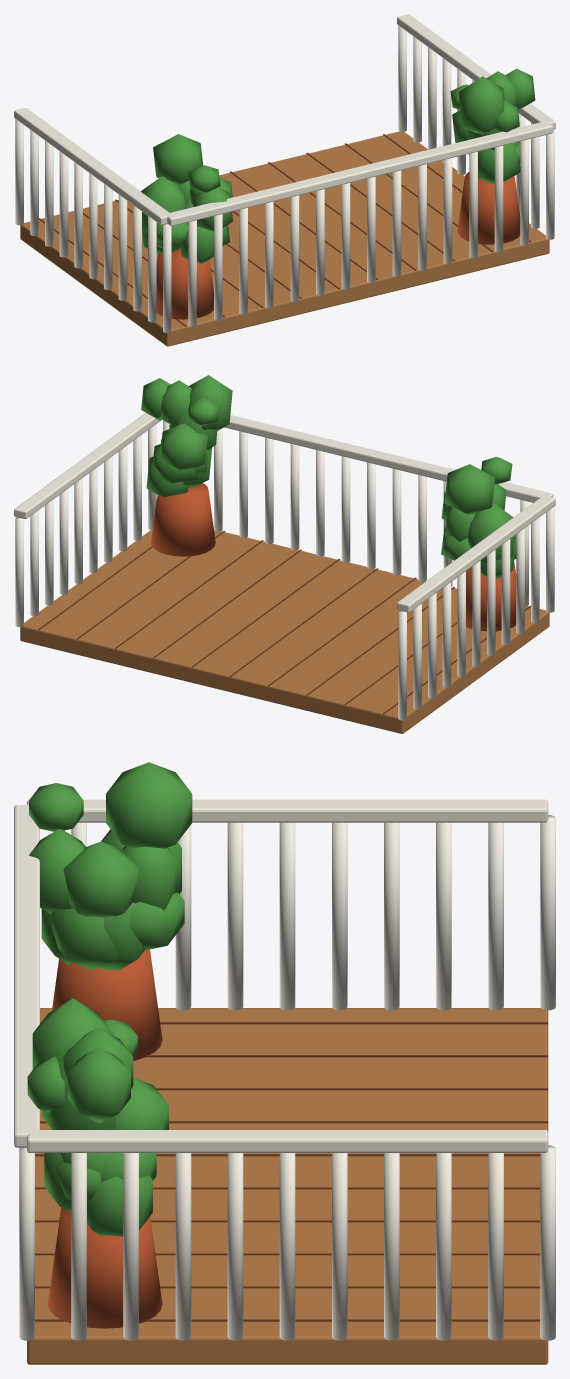
File: terrazza.glb
The picture shows the model from 3 angles, top to bottom: view 1: azimuth 30°, elevation 25°; view 2: azimuth 150°, elevation 25°; view 3: azimuth 270°, elevation 25°; orthographic projection. The views are drawn at different scales.
Parts seen in each view (by area): view 1: Cube, Cube.011, Cube.012, Cone, Cone.001, Cube.013, Icosphere, Icosphere.014, Icosphere.017, Cylinder.007, Cylinder.009, Cylinder.005 (+35 smaller); view 2: Cube, Cube.011, Cone, Cube.012, Cube.013, Icosphere.014, Icosphere.010, Cone.001, Icosphere, Icosphere.017, Cylinder.006, Cylinder.008 (+37 smaller); view 3: Cube, Cube.013, Cube.012, Cube.011, Cone, Icosphere.014, Cone.001, Icosphere.027, Icosphere.006, Cylinder.020, Cylinder.021, Cylinder.030 (+41 smaller).
Part boxes in pixels (bbox=[...]): Cube: bbox=[20, 131, 549, 346]; Cube.011: bbox=[166, 121, 553, 226]; Cube.012: bbox=[14, 108, 170, 225]; Cone: bbox=[457, 172, 520, 244]; Cone.001: bbox=[156, 247, 213, 319]; Cube.013: bbox=[397, 14, 555, 129]; Icosphere: bbox=[458, 76, 504, 134]; Icosphere.014: bbox=[153, 134, 202, 184]; Icosphere.017: bbox=[141, 176, 185, 232]; Cylinder.007: bbox=[341, 183, 350, 289]; Cylinder.009: bbox=[392, 170, 401, 276]; Cylinder.005: bbox=[290, 195, 299, 301]; Cube: bbox=[20, 530, 549, 733]; Cube.011: bbox=[224, 415, 553, 502]; Cone: bbox=[151, 483, 215, 556]; Cube.012: bbox=[397, 495, 555, 612]; Cube.013: bbox=[14, 413, 160, 519]; Icosphere.014: bbox=[444, 464, 495, 514]; Icosphere.010: bbox=[160, 423, 207, 470]; Cone.001: bbox=[466, 562, 516, 631]; Icosphere: bbox=[189, 375, 232, 430]; Icosphere.017: bbox=[468, 502, 514, 563]; Cylinder.006: bbox=[392, 468, 401, 575]; Cylinder.008: bbox=[341, 456, 350, 562]; Cube: bbox=[27, 1008, 548, 1364]; Cube.013: bbox=[27, 1130, 548, 1152]; Cube.012: bbox=[27, 799, 548, 822]; Cube.011: bbox=[14, 805, 39, 1147]; Cone: bbox=[48, 1208, 162, 1328]; Icosphere.014: bbox=[106, 762, 192, 848]; Cone.001: bbox=[52, 949, 162, 1060]; Icosphere.027: bbox=[63, 841, 138, 917]; Icosphere.006: bbox=[67, 1047, 130, 1123]; Cylinder.020: bbox=[227, 822, 243, 1010]; Cylinder.021: bbox=[279, 822, 295, 1010]; Cylinder.030: bbox=[175, 1153, 191, 1340].
Bounding box in the file's own units: 3.1 × 1.36 × 2.08.
